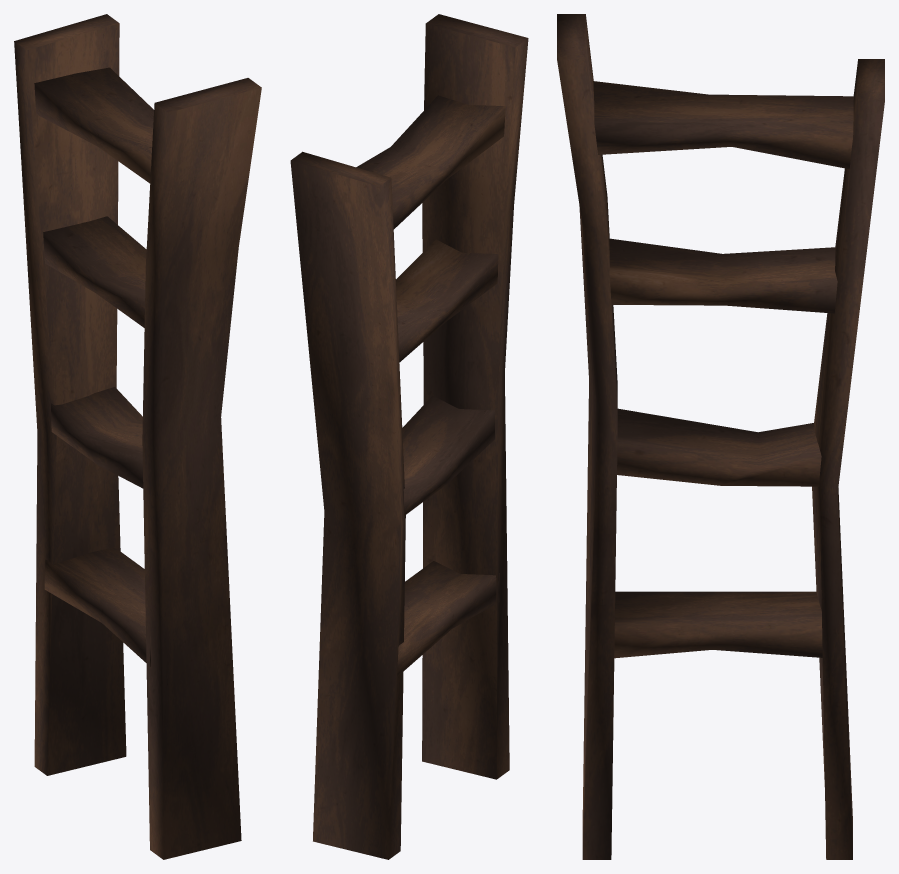
Rendered from cube_diorama-shelf.glb.
3 renders of one model, left to right at view 1: azimuth 30°, elevation 25°; view 2: azimuth 150°, elevation 25°; view 3: azimuth 270°, elevation 25°, orthographic. The views are drawn at different scales.
Visible parts, largest first — view 1: Shelf.001; view 2: Shelf.001; view 3: Shelf.001.
Boxes of the visible parts, box(x1,y1,x2,y2) form: Shelf.001: box(14, 14, 261, 859); Shelf.001: box(290, 14, 528, 859); Shelf.001: box(557, 14, 884, 859).
Size of the model in its own units: 0.183 by 1.42 by 0.5237.
Materials: 1 (1 with a texture image).
